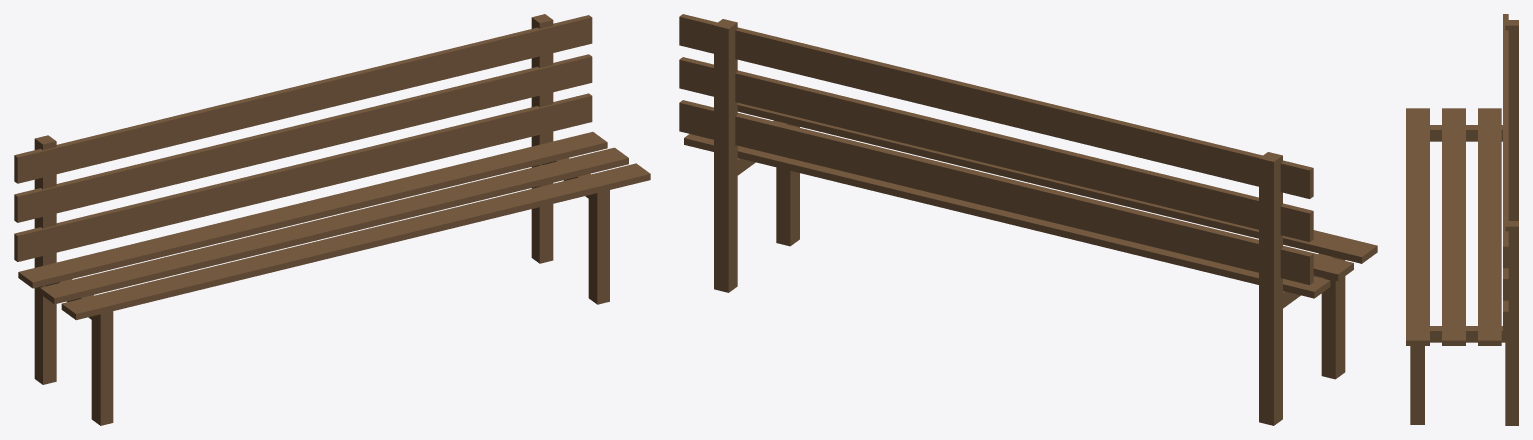
File: benches.fbx
The picture shows the model from 3 angles, left to right: view 1: azimuth 30°, elevation 25°; view 2: azimuth 150°, elevation 25°; view 3: azimuth 270°, elevation 25°; orthographic projection. The views are drawn at different scales.
Parts seen in each view (by area): view 1: Cube.003; view 2: Cube.003; view 3: Cube.003.
Boxes of the visible parts, box(x1,y1,x2,y2) form: Cube.003: box(14, 14, 650, 425); Cube.003: box(679, 14, 1377, 425); Cube.003: box(1406, 14, 1518, 425).
Size of the model in its own units: 512 by 205 by 105.
